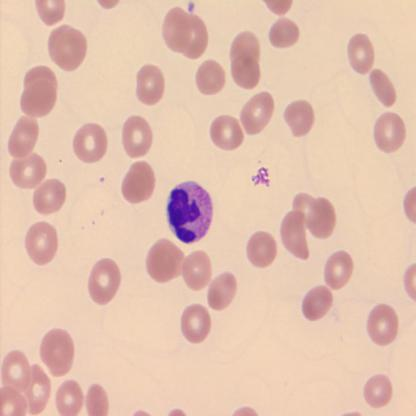Segmented neutrophil: (164, 178, 215, 246)
